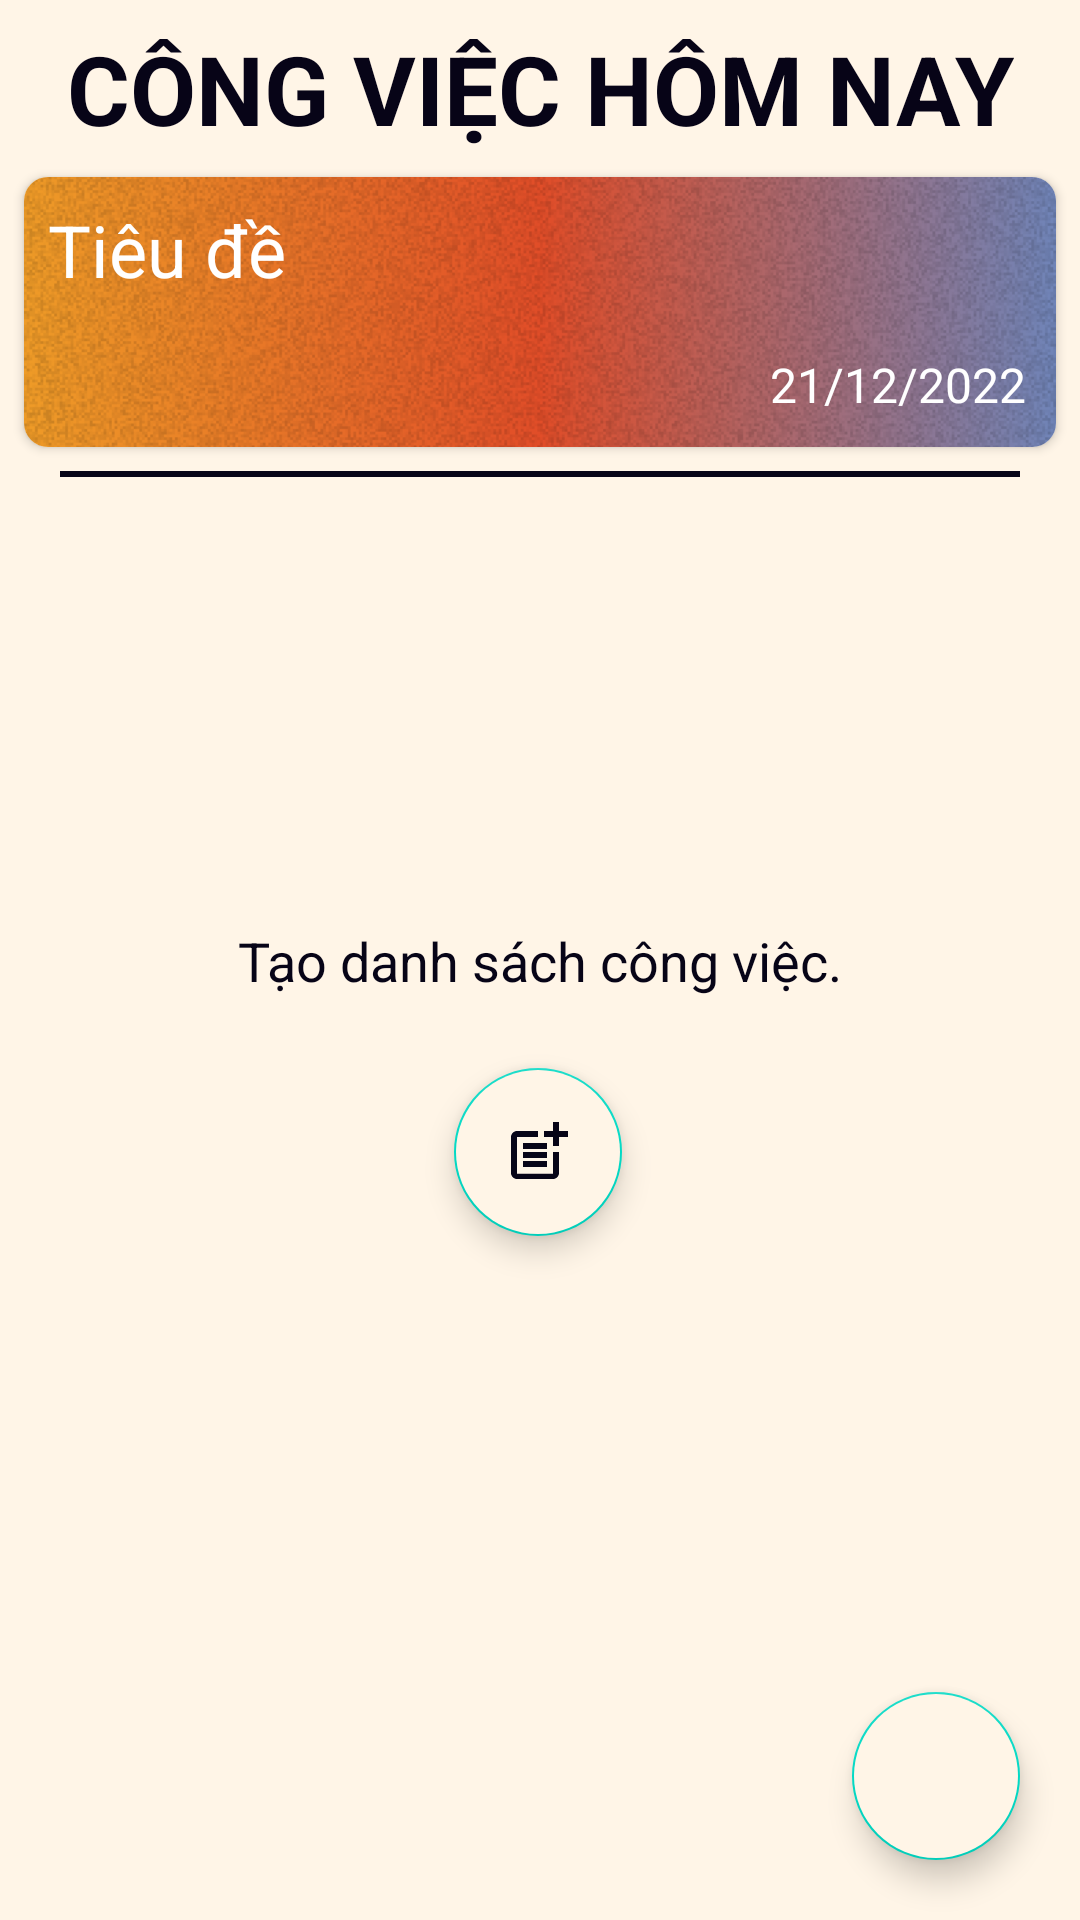

Icons on this 1080px×1920px Android screen, each with the point to tap as [x,y]:
post add: [538,1152]
